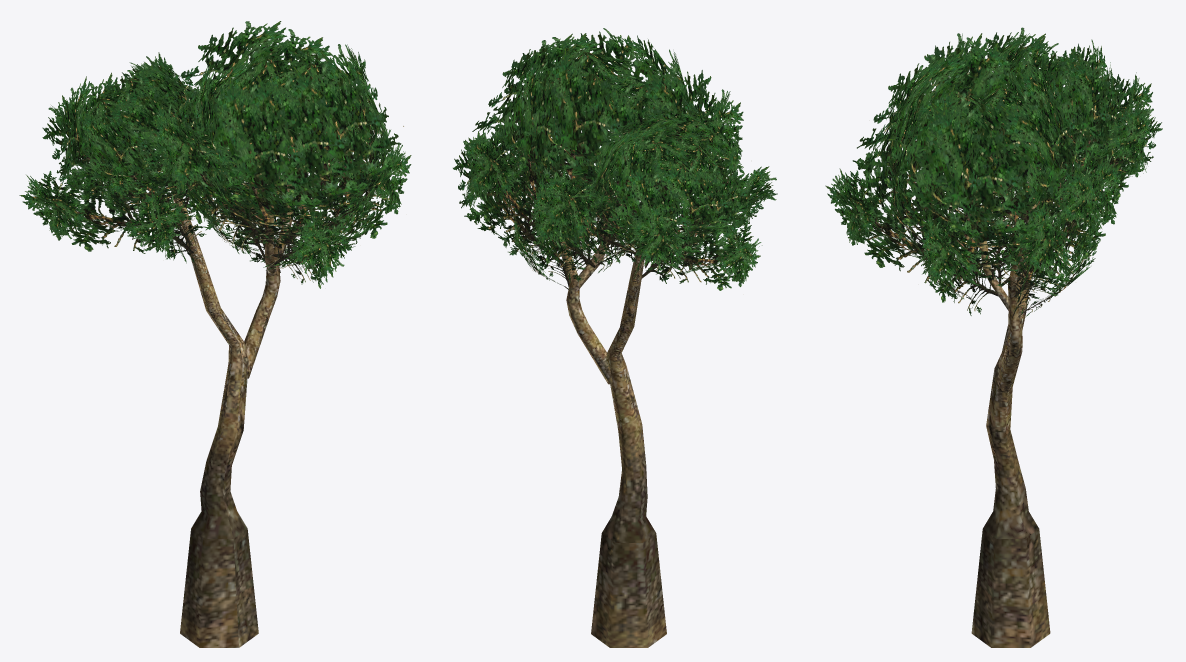
The model's file is aleppo_pine_5.glb.
3 renders of one model, left to right at view 1: azimuth 30°, elevation 25°; view 2: azimuth 150°, elevation 25°; view 3: azimuth 270°, elevation 25°, orthographic. The views are drawn at different scales.
Size of the model in its own units: 14.44 by 24.86 by 13.03.
1 material, 1 textured.
